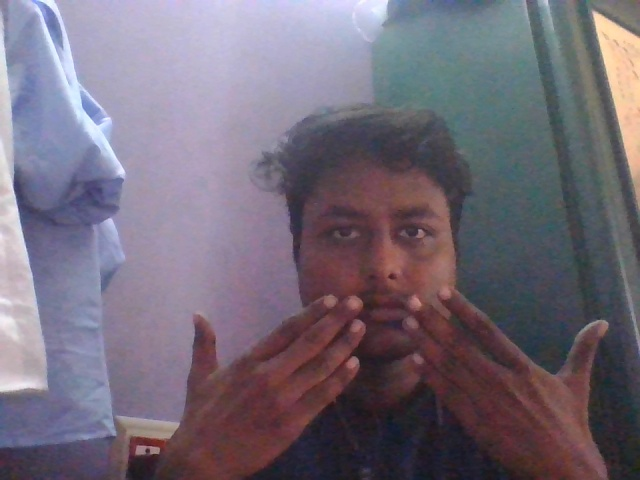thankyou: (158, 233, 623, 480)
